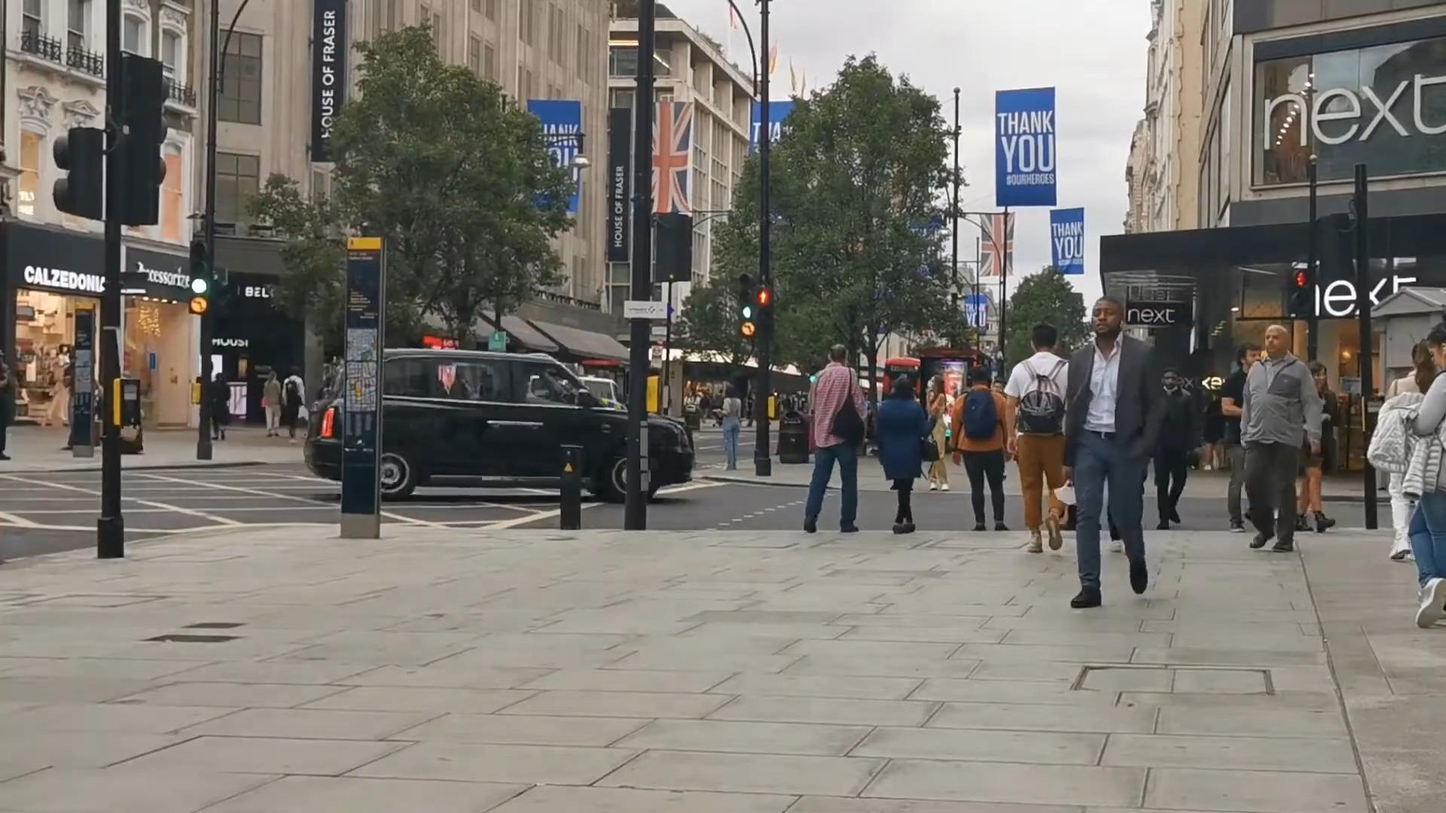no-helmet: (1091, 297, 1124, 336), (1427, 307, 1446, 370), (1412, 338, 1436, 377), (1030, 322, 1059, 354), (1265, 325, 1290, 356), (1235, 341, 1262, 368), (1306, 360, 1329, 391), (827, 344, 849, 367), (893, 377, 913, 400), (970, 365, 990, 386), (1161, 367, 1179, 390), (928, 374, 944, 396), (725, 383, 737, 398)
